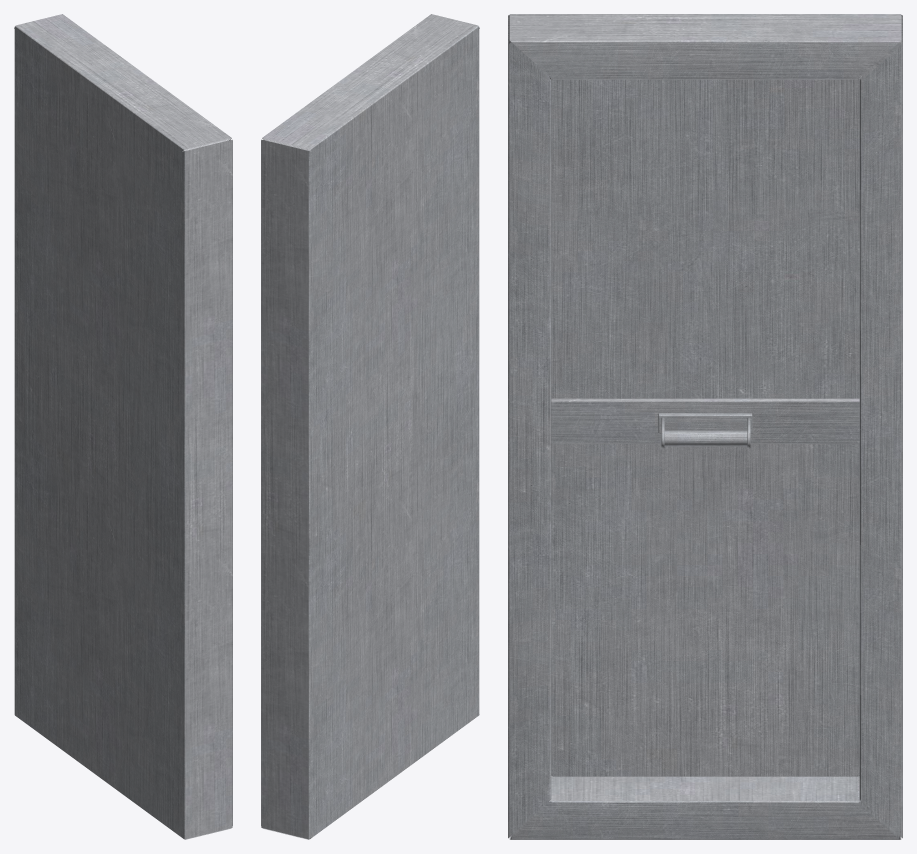
The model's file is SM_KitchenLift.FBX.
3 renders of one model, left to right at view 1: azimuth 30°, elevation 25°; view 2: azimuth 150°, elevation 25°; view 3: azimuth 270°, elevation 25°, orthographic. The views are drawn at different scales.
Visible parts, largest first — view 1: SM_KitchenLift; view 2: SM_KitchenLift; view 3: SM_KitchenLift.
Part boxes in pixels (<box>): SM_KitchenLift: <box>14,14,232,839</box>; SM_KitchenLift: <box>261,14,479,839</box>; SM_KitchenLift: <box>508,14,902,839</box>.
Size of the model in its own units: 10.25 by 134 by 60.
